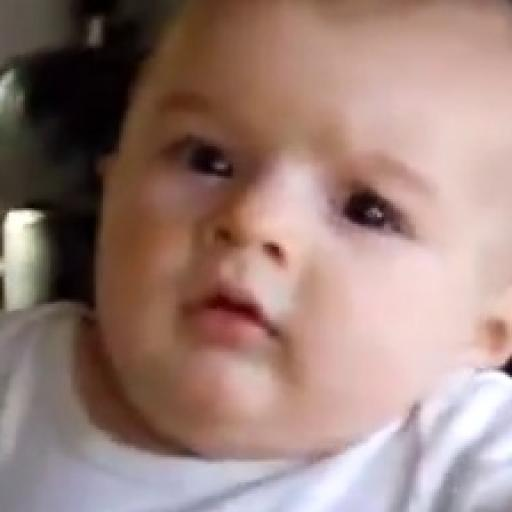Autism: (68, 25, 512, 472)
